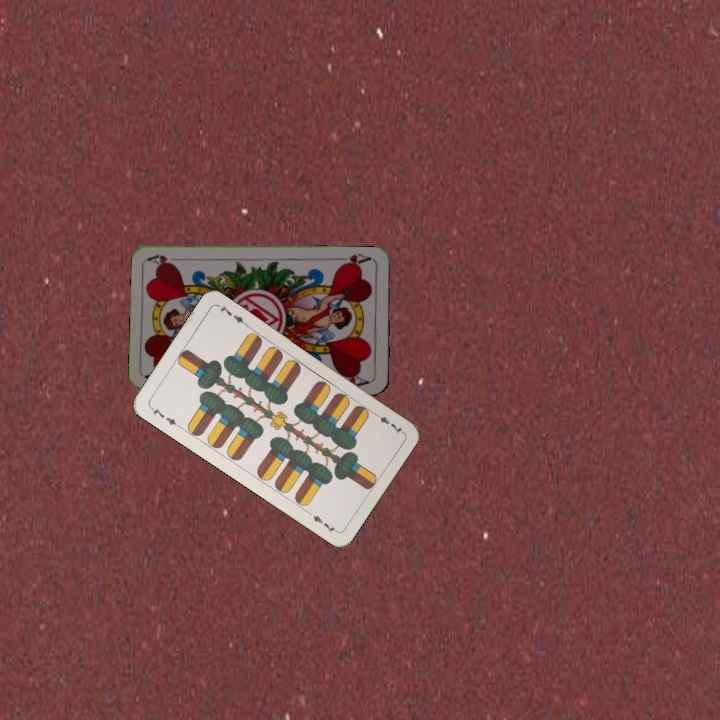E7: (369, 408, 405, 437), (146, 403, 182, 430)
HA: (335, 249, 375, 269)
